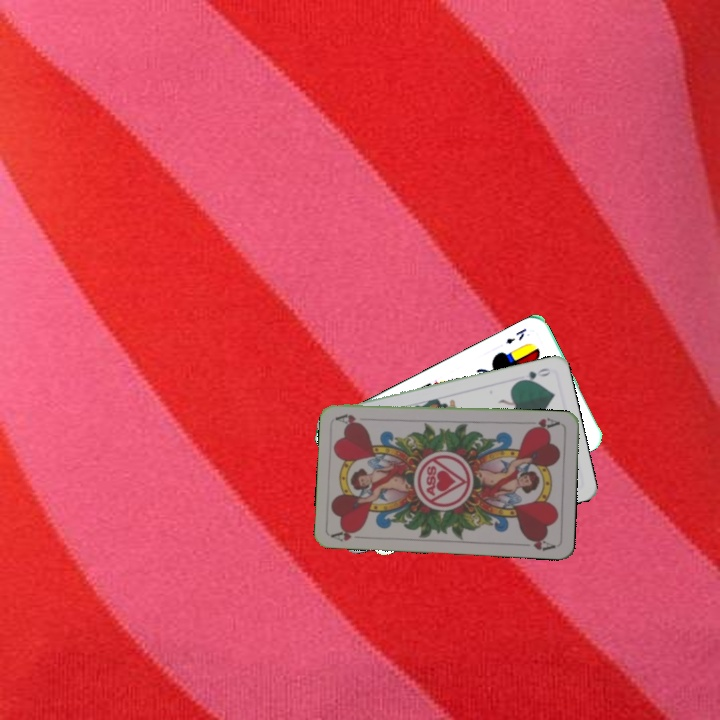EK: (502, 324, 529, 347)
GO: (514, 364, 553, 385)
HA: (523, 413, 562, 433), (329, 525, 369, 544)
